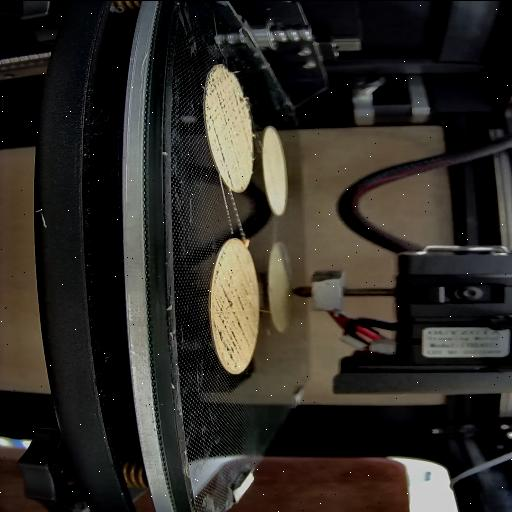under_extrusion: (204, 69, 247, 187), (215, 250, 253, 370)
